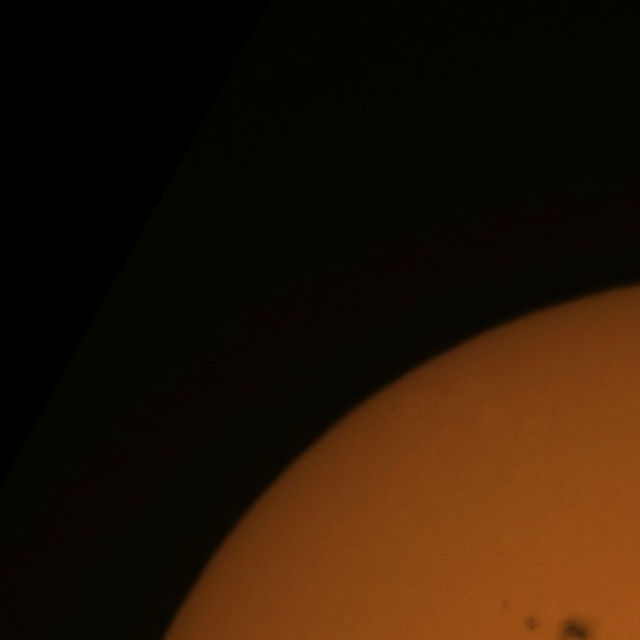sunspot: (562, 615, 590, 640), (522, 614, 542, 635)
